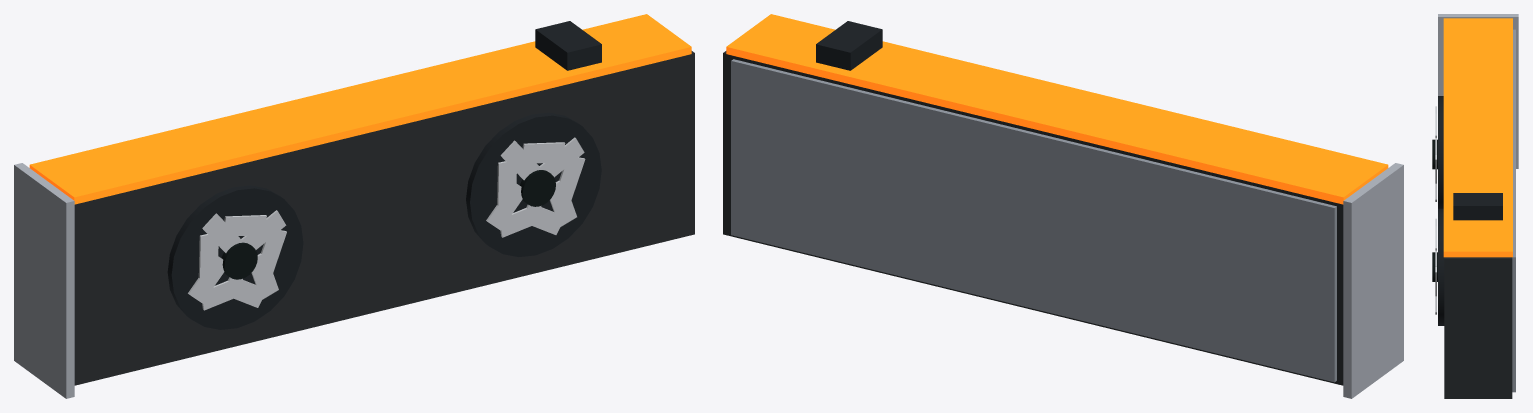
Rendered from gpu.glb.
The picture shows the model from 3 angles, left to right: view 1: azimuth 30°, elevation 25°; view 2: azimuth 150°, elevation 25°; view 3: azimuth 270°, elevation 25°; orthographic projection. The views are drawn at different scales.
Visible parts, largest first — view 1: world; view 2: world; view 3: world.
Boxes of the visible parts, x1,y1,x2,y2 form: world: (14, 14, 694, 398); world: (723, 14, 1403, 398); world: (1432, 14, 1518, 398).
Size of the model in its own units: 9.12 by 3.1 by 1.39.
